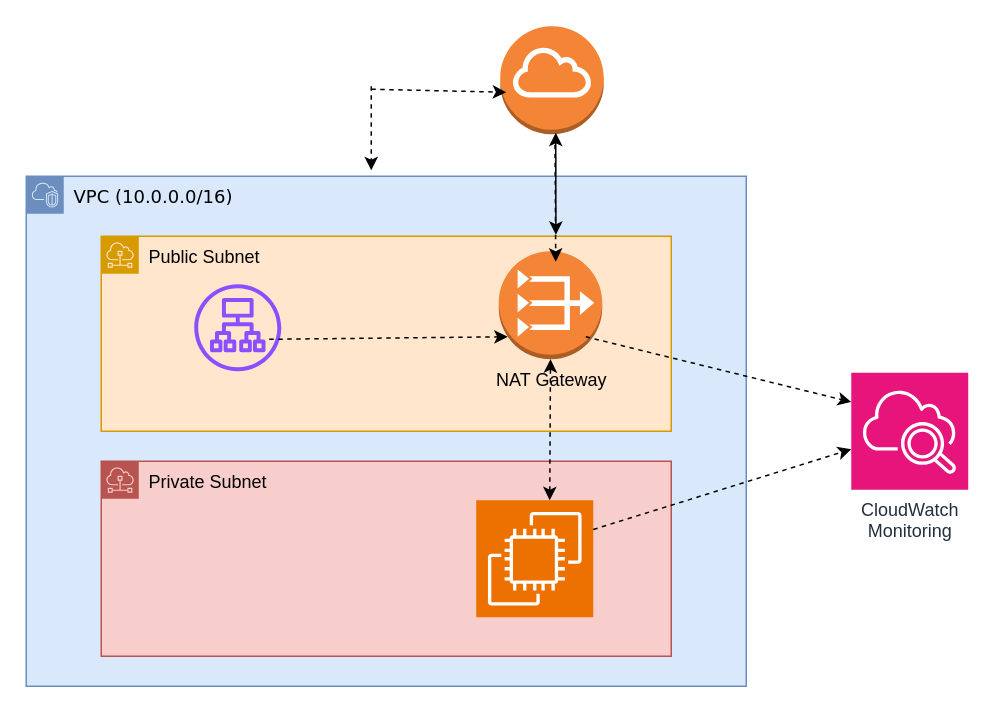
The diagram is 995 pixels wide and 713 high, and some of its shapes have lost their labels. The centre of each missing label's shape, as x and y in pixels:
"Application Load Balancer (ALB)" belongs at (x=237, y=327).
"EC2 Instance" belongs at (x=534, y=558).
"Internet Gateway" belongs at (x=551, y=79).
